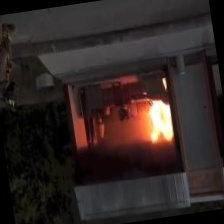fire: (133, 100, 179, 155)
